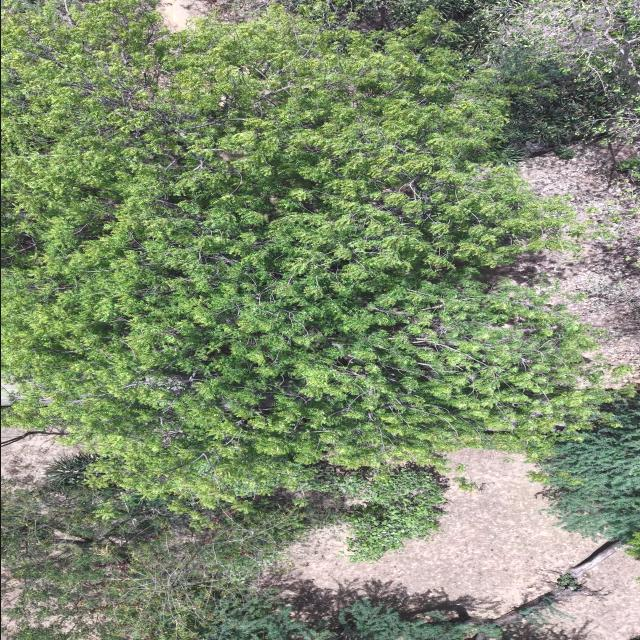DRY_AREA: (283, 449, 604, 616), (283, 449, 603, 615), (286, 449, 604, 616), (511, 143, 639, 386), (512, 143, 639, 385), (1, 434, 82, 479), (157, 0, 276, 30), (157, 0, 198, 30)
VEGETATION_TREE: (1, 0, 639, 639), (1, 0, 603, 506), (1, 454, 598, 639), (1, 460, 618, 639), (1, 454, 415, 639), (1, 473, 414, 639), (286, 0, 639, 158), (1, 482, 301, 639), (480, 0, 639, 146), (531, 398, 639, 540), (308, 465, 446, 561), (196, 596, 501, 639), (283, 0, 498, 50), (343, 467, 445, 561), (45, 453, 96, 489), (627, 531, 639, 560), (628, 531, 639, 559)
